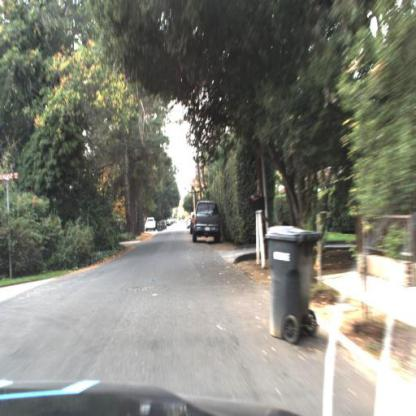car: (191, 200, 224, 245), (144, 215, 158, 238)
